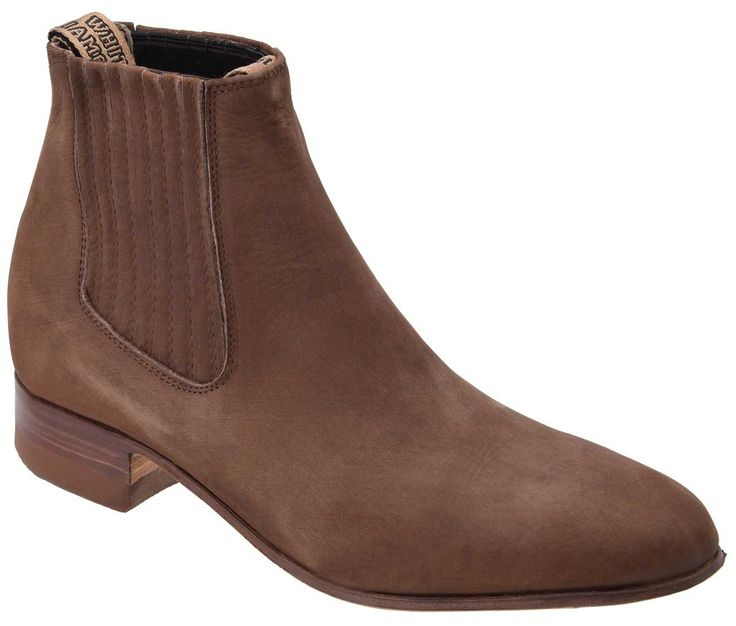gamuza: (6, 19, 721, 597)
